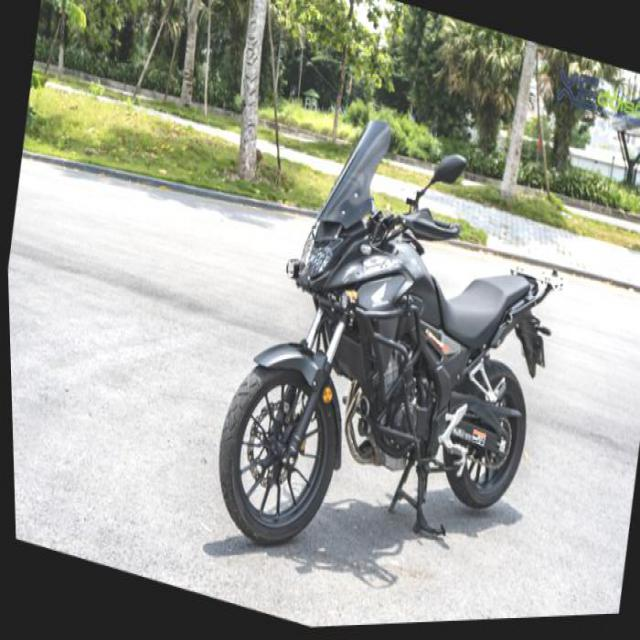CB500X: (193, 70, 583, 632)
